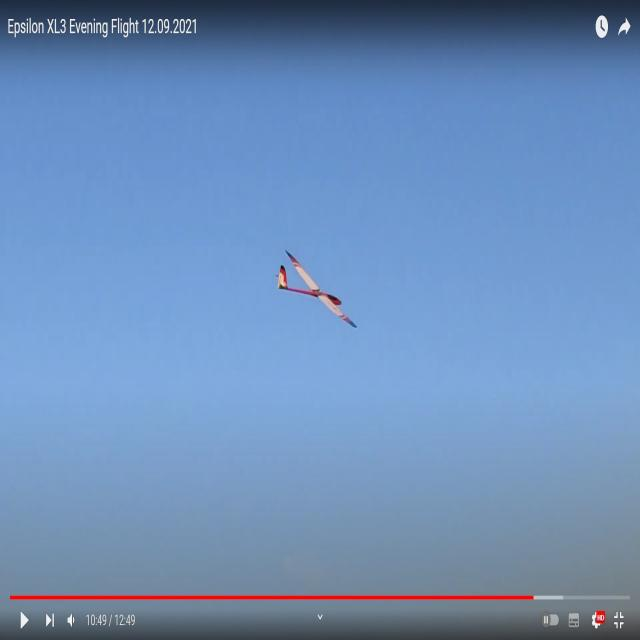iha: (310, 276, 324, 296)
